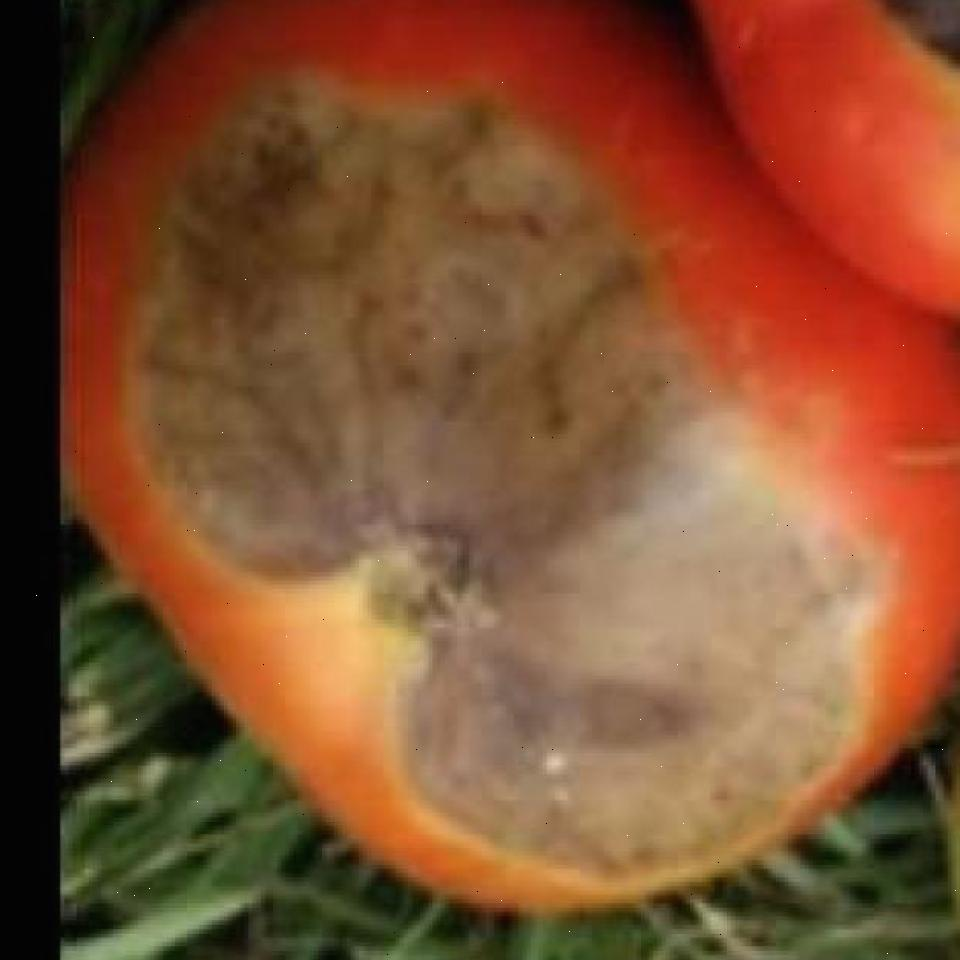Blossom_end_rot: (119, 86, 886, 920), (814, 0, 960, 120)
